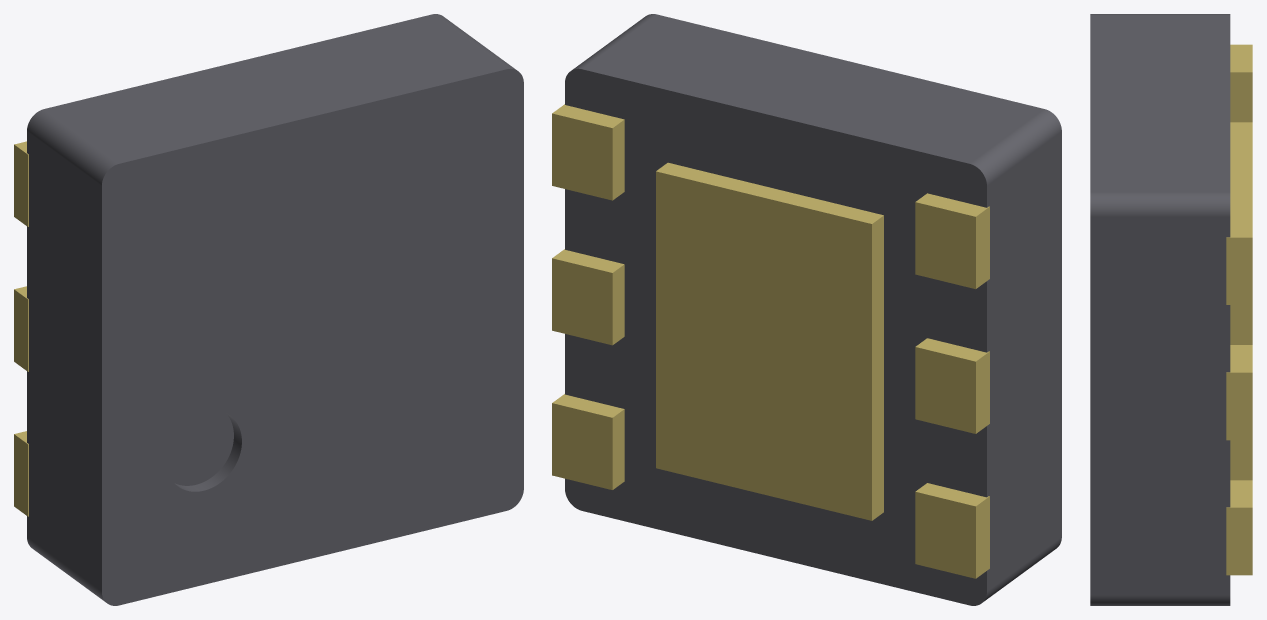
The model's file is sgp40.glb.
3 views of the same model, side by side, from view 1: azimuth 30°, elevation 25°; view 2: azimuth 150°, elevation 25°; view 3: azimuth 270°, elevation 25° (orthographic). The views are drawn at different scales.
Parts seen in each view (by area): view 1: extra, pins; view 2: extra, pins; view 3: extra, pins.
Boxes of the visible parts, x1,y1,x2,y2 form: extra: (27, 14, 523, 605); pins: (14, 141, 28, 516); extra: (565, 14, 1061, 605); pins: (552, 104, 989, 578); extra: (1090, 14, 1230, 605); pins: (1226, 44, 1252, 575).
Size of the model in its own units: 2.45 by 2.44 by 0.87.
